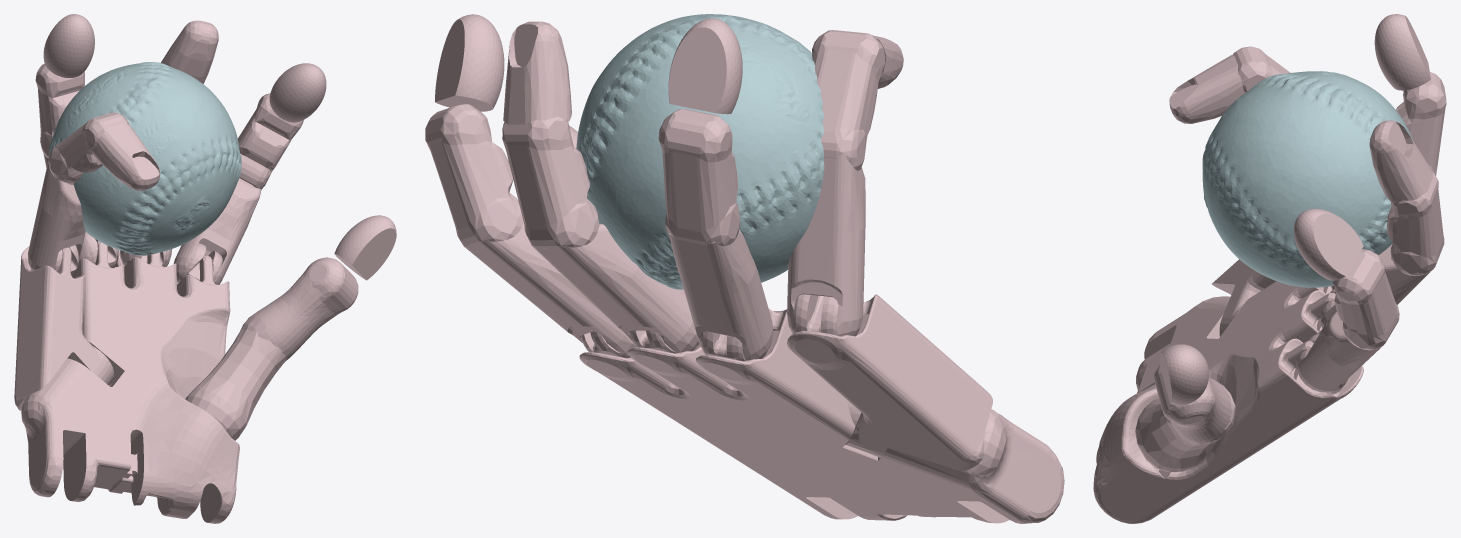
Rendered from grasp_8.glb.
3 views of the same model, side by side, from view 1: azimuth 30°, elevation 25°; view 2: azimuth 150°, elevation 25°; view 3: azimuth 270°, elevation 25° (orthographic). The views are drawn at different scales.
Parts seen in each view (by area): view 1: world; view 2: world; view 3: world.
Part boxes in pixels (left/top/right/bottom): world: left=14, top=14, right=396, bottom=523; world: left=425, top=14, right=1064, bottom=523; world: left=1093, top=14, right=1446, bottom=523.
Bounding box in the file's own units: 0.1615 × 0.1815 × 0.1176.
